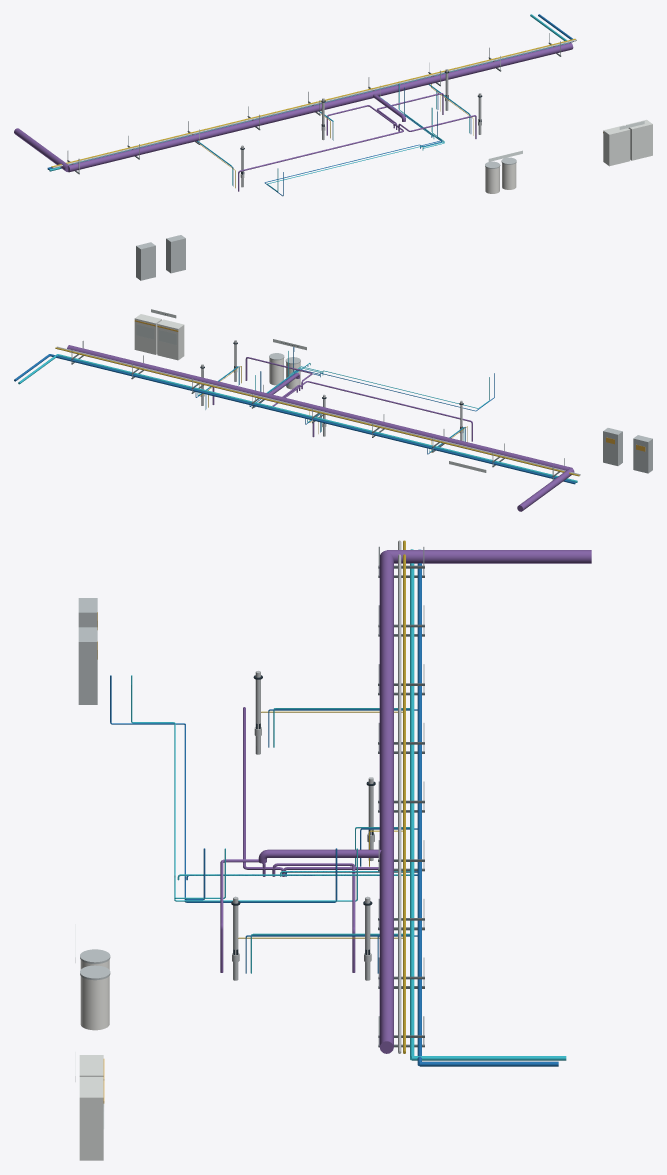
Rendered from fab1-services-south.glb.
3 views of the same model, one above another, from view 1: azimuth 30°, elevation 25°; view 2: azimuth 150°, elevation 25°; view 3: azimuth 270°, elevation 25° (orthographic). The views are drawn at different scales.
Parts seen in each view (by area): view 1: FAB1_Services_south_EXH, FAB1_Services_south_Slurry, FAB1_Services_south_PDU, FAB1_Services_south_CDA, FAB1_Services_south_ECPBath, FAB1_Services_south_N2, FAB1_Services_south_PCWR, FAB1_Services_south_EXH_Crossing, FAB1_Services_south_Hangers, FAB1_Services_south_PumpExhaust_DP_06; view 2: FAB1_Services_south_EXH, FAB1_Services_south_Slurry, FAB1_Services_south_PCWS, FAB1_Services_south_PDU, FAB1_Services_south_PCWR, FAB1_Services_south_N2, FAB1_Services_south_CDA, FAB1_Services_south_ECPBath, FAB1_Services_south_Hangers, FAB1_Services_south_EXH_Crossing, FAB1_Services_south_PumpExhaust_DP_06; view 3: FAB1_Services_south_EXH, FAB1_Services_south_EXH_Crossing, FAB1_Services_south_Slurry, FAB1_Services_south_PCWS, FAB1_Services_south_PCWR, FAB1_Services_south_ECPBath, FAB1_Services_south_Hangers, FAB1_Services_south_PDU, FAB1_Services_south_CDA, FAB1_Services_south_N2, FAB1_Services_south_ScrubberOutlet_SCR_03.
Part boxes in pixels (box(x1,y1,x2,y2)): FAB1_Services_south_EXH: box(68, 42, 573, 172); FAB1_Services_south_Slurry: box(603, 119, 652, 166); FAB1_Services_south_PDU: box(136, 235, 185, 280); FAB1_Services_south_CDA: box(52, 39, 576, 168); FAB1_Services_south_ECPBath: box(485, 157, 516, 193); FAB1_Services_south_N2: box(51, 38, 575, 167); FAB1_Services_south_PCWR: box(49, 42, 569, 171); FAB1_Services_south_EXH_Crossing: box(14, 128, 68, 171); FAB1_Services_south_Hangers: box(67, 33, 561, 174); FAB1_Services_south_PumpExhaust_DP_06: box(238, 124, 403, 191); FAB1_Services_south_EXH: box(67, 345, 572, 472); FAB1_Services_south_Slurry: box(134, 314, 184, 360); FAB1_Services_south_PCWS: box(50, 354, 575, 484); FAB1_Services_south_PDU: box(603, 428, 652, 473); FAB1_Services_south_PCWR: box(58, 354, 577, 482); FAB1_Services_south_N2: box(55, 347, 579, 476); FAB1_Services_south_CDA: box(56, 346, 580, 475); FAB1_Services_south_ECPBath: box(269, 353, 300, 389); FAB1_Services_south_Hangers: box(71, 340, 564, 480); FAB1_Services_south_EXH_Crossing: box(517, 468, 574, 511); FAB1_Services_south_PumpExhaust_DP_06: box(297, 381, 472, 441); FAB1_Services_south_EXH: box(379, 550, 393, 1053); FAB1_Services_south_EXH_Crossing: box(386, 550, 591, 563); FAB1_Services_south_Slurry: box(79, 1055, 104, 1160); FAB1_Services_south_PCWS: box(417, 549, 421, 1065); FAB1_Services_south_PCWR: box(410, 549, 414, 1060); FAB1_Services_south_ECPBath: box(80, 949, 110, 1030); FAB1_Services_south_Hangers: box(378, 546, 424, 1047); FAB1_Services_south_PDU: box(78, 598, 97, 704); FAB1_Services_south_CDA: box(398, 540, 401, 1053); FAB1_Services_south_N2: box(403, 540, 405, 1053); FAB1_Services_south_ScrubberOutlet_SCR_03: box(258, 849, 381, 863).
Size of the model in its own units: 35.03 by 4.2 by 14.87.
Materials: 2 (1 with a texture image).
